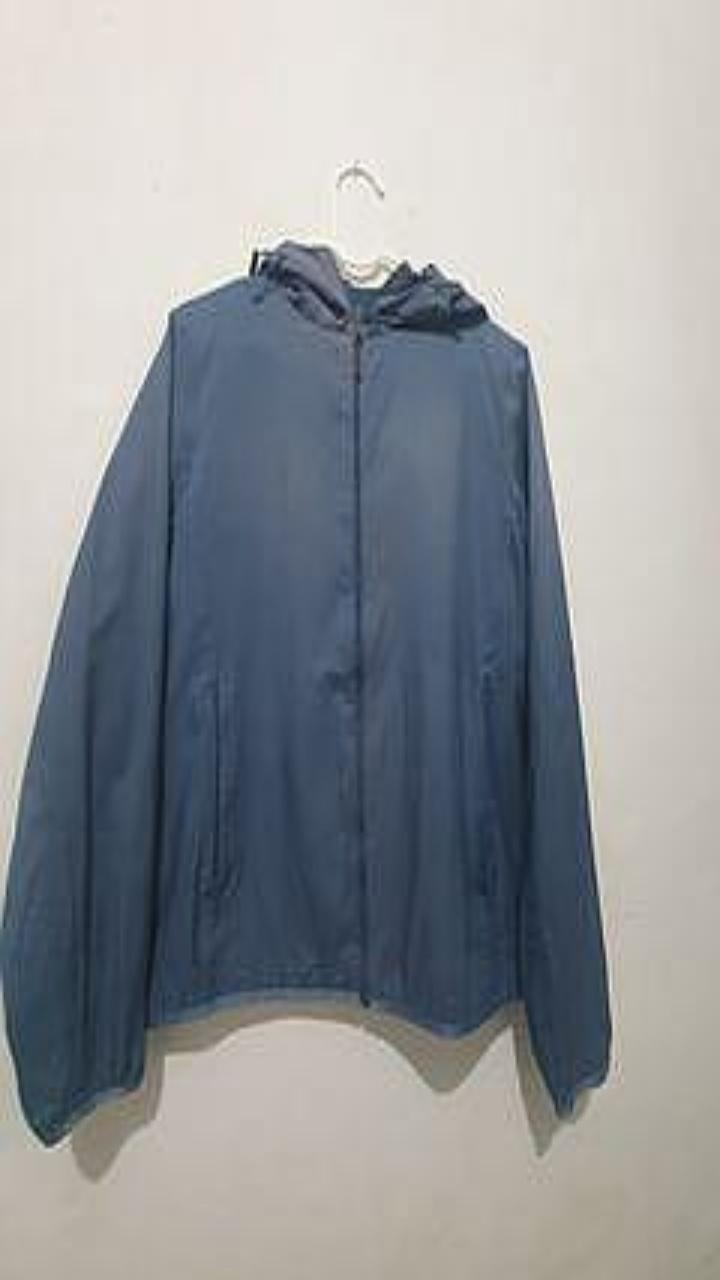Sports_Jacket: (0, 239, 610, 1145)
